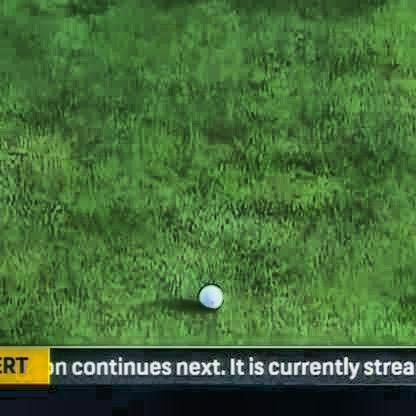golfball: (194, 277, 219, 307)
